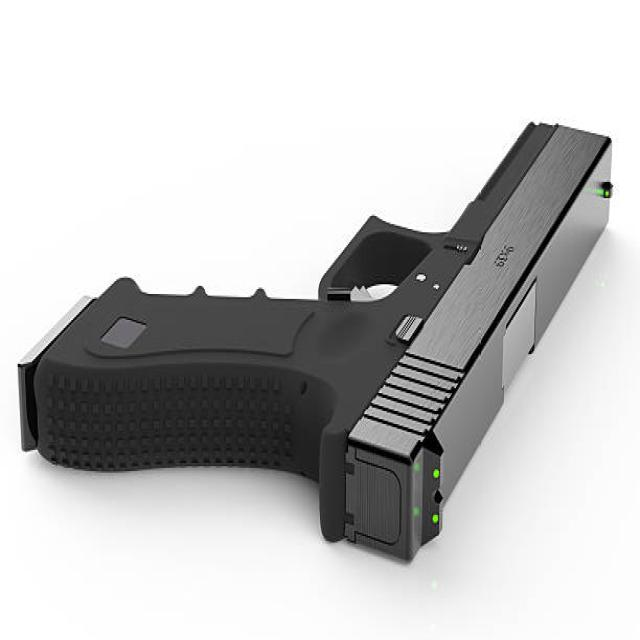pistol: (10, 108, 626, 576)
